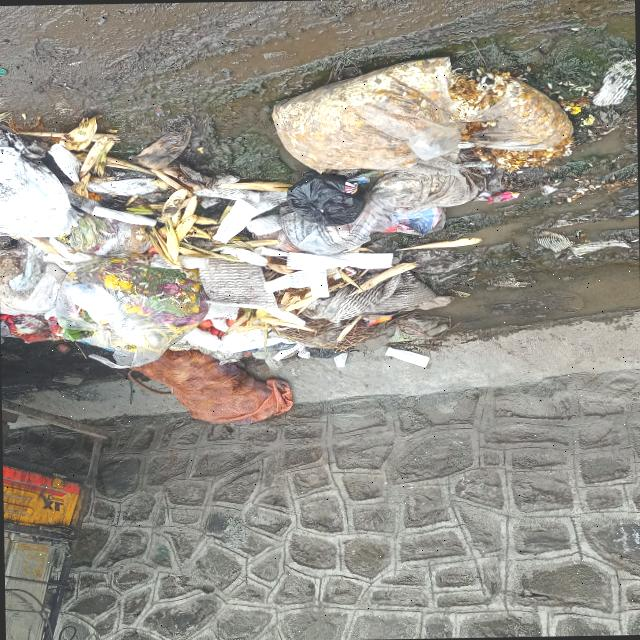garbage: (0, 49, 587, 413)
